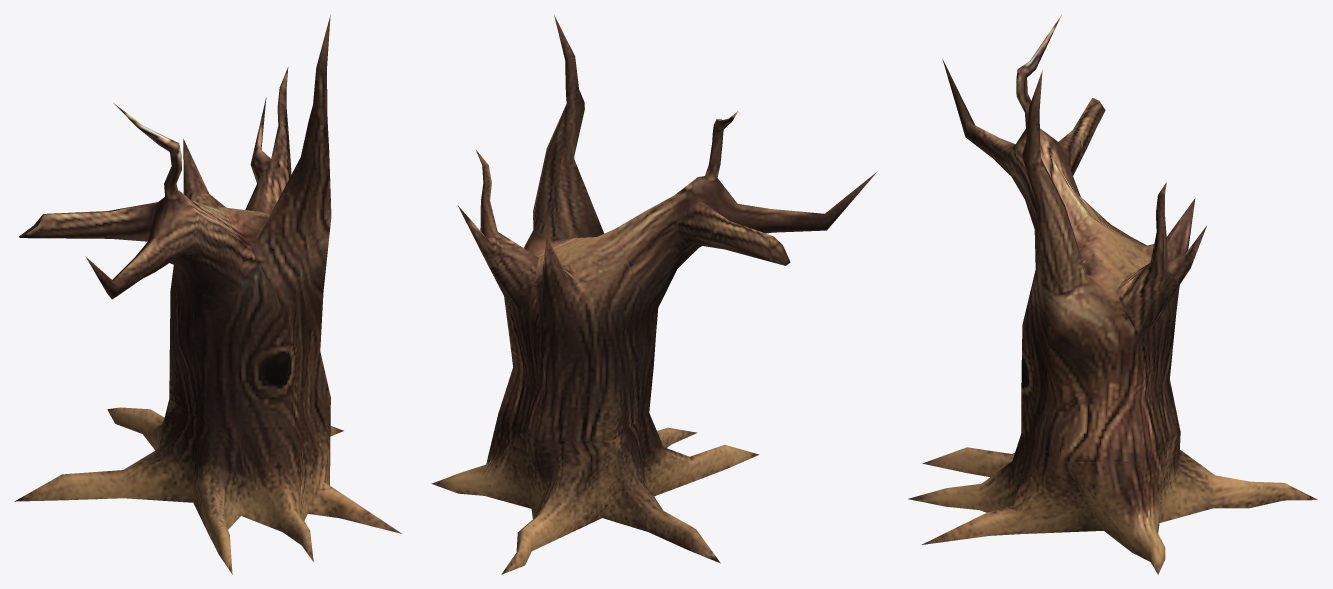
The model's file is kushu03.FBX.
The picture shows the model from 3 angles, left to right: view 1: azimuth 30°, elevation 25°; view 2: azimuth 150°, elevation 25°; view 3: azimuth 270°, elevation 25°; orthographic projection. The views are drawn at different scales.
Parts seen in each view (by area): view 1: 对象039; view 2: 对象039; view 3: 对象039.
Boxes of the visible parts, x1=… form: 对象039: x1=14, y1=15, x2=401, y2=574; 对象039: x1=431, y1=15, x2=877, y2=574; 对象039: x1=908, y1=15, x2=1317, y2=574.
Size of the model in its own units: 179 by 222 by 176.
